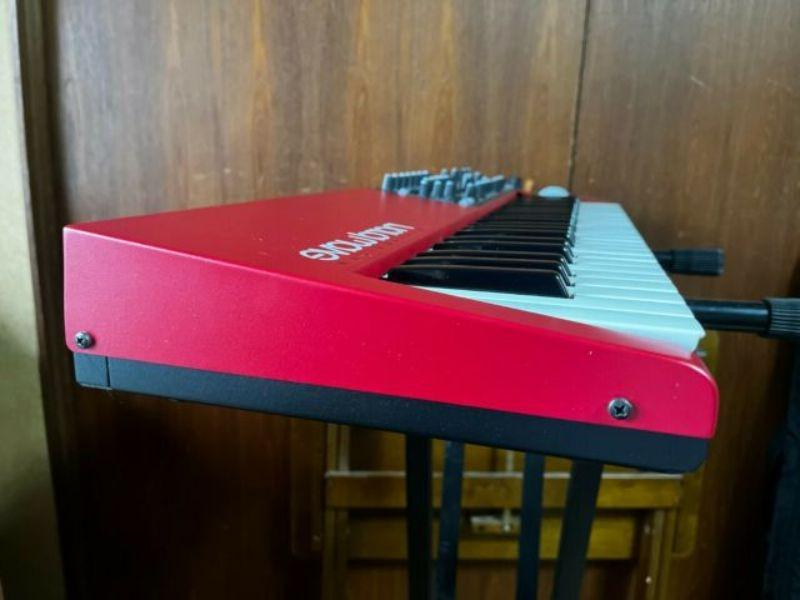synthesizer: (54, 158, 745, 482)
